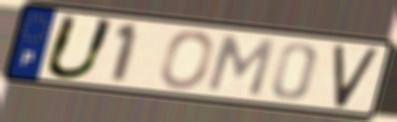0: (270, 41, 320, 101)
1: (108, 22, 140, 86)
M: (204, 32, 278, 99)
O: (157, 29, 217, 91)
U: (40, 12, 119, 82)
V: (332, 44, 382, 110)
